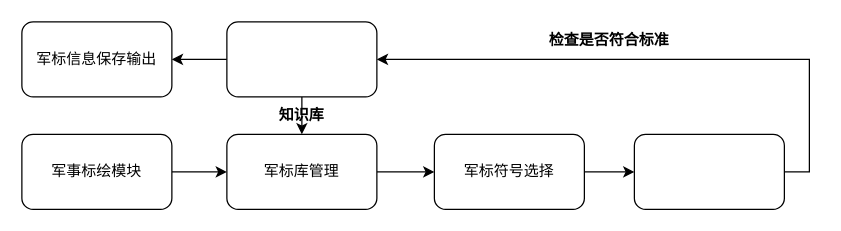
The diagram is 841 pixels wide and 231 high, and some of its shapes have lost their labels. The centre of each missing label's shape, as x and y in pixels:
"2013版军事符号标准" goes at [301,59].
"军标符号绘制" goes at [708,171].
